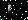person: (10, 2, 18, 15)
